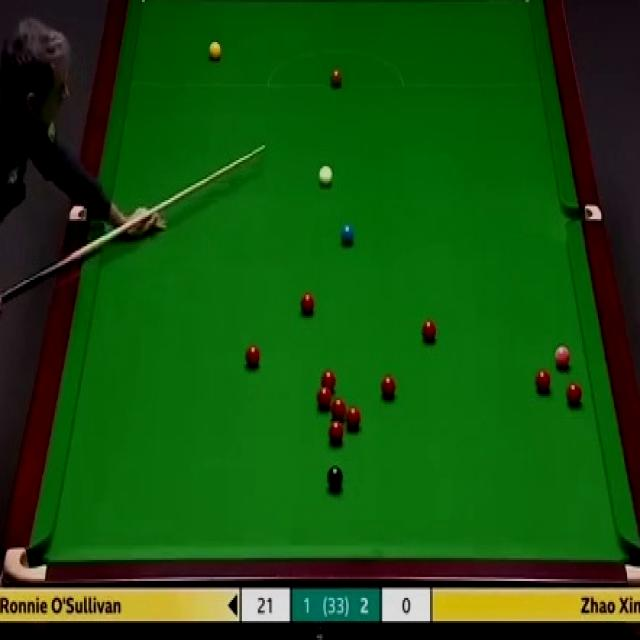black-ball: (326, 465, 344, 492)
blue-ball: (340, 222, 356, 245)
brown-ball: (329, 67, 343, 88)
pink-ball: (554, 343, 571, 370)
red-ball: (536, 369, 554, 394), (380, 374, 397, 399), (346, 407, 362, 432), (299, 293, 316, 316), (566, 383, 582, 406), (245, 346, 261, 368), (329, 421, 343, 445), (422, 320, 436, 344), (319, 370, 337, 387), (331, 401, 348, 418), (316, 386, 332, 402)
white-ball: (318, 162, 336, 188)
yellow-ball: (209, 41, 223, 63)
